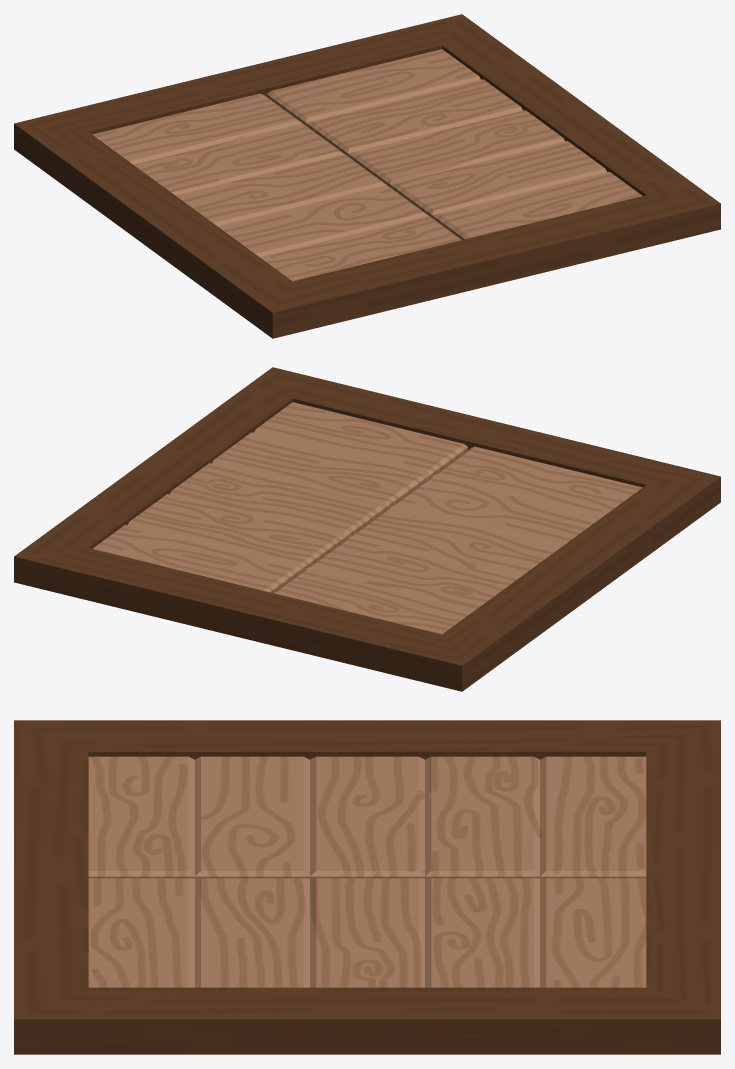
Rendered from Trap_Door_02.fbx.
3 renders of one model, top to bottom at view 1: azimuth 30°, elevation 25°; view 2: azimuth 150°, elevation 25°; view 3: azimuth 270°, elevation 25°, orthographic. The views are drawn at different scales.
Parts seen in each view (by area): view 1: frame, Door_R, Door_L; view 2: frame, Door_R, Door_L; view 3: frame, Door_L, Door_R.
Part boxes in pixels (<box>): frame: <box>14,14,720,338</box>; Door_R: <box>267,49,642,239</box>; Door_L: <box>92,93,461,281</box>; frame: <box>14,367,720,691</box>; Door_R: <box>92,402,467,592</box>; Door_L: <box>273,446,642,634</box>; frame: <box>14,720,720,1054</box>; Door_L: <box>88,756,646,878</box>; Door_R: <box>88,878,646,987</box>.
Bounding box in the file's own units: 200 × 11.03 × 200.
